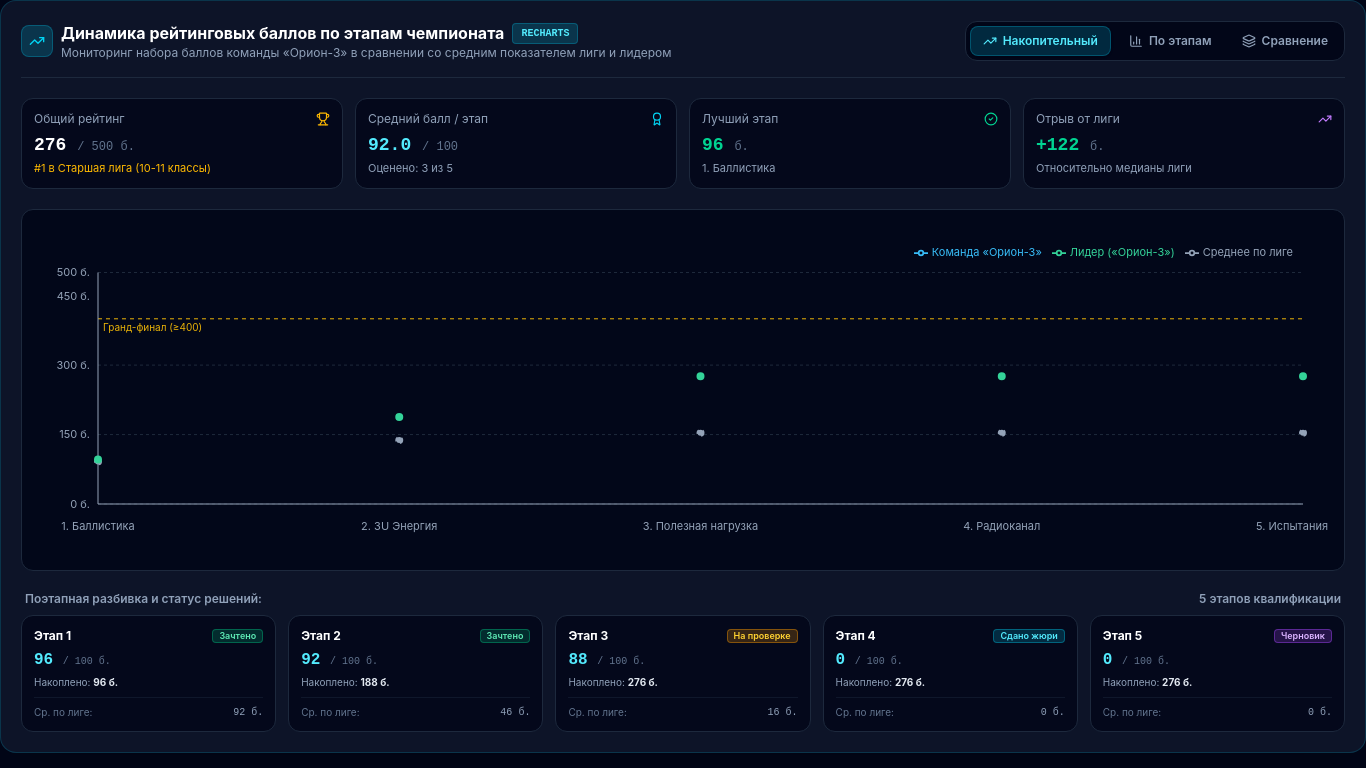
Test: StageScoresChart: График рейтинговых баллов по этапам (Recharts) › позволяет переключать режимы отображения: Накопительный, По этапам, Сравнение
Check: the button with test id "btn-view-comparison" is shown, box [1230,27,1340,55]
Check: the button with test id "btn-view-cumulative" is shown, box [970,26,1111,56]
Note: Переключение на "По этапам"
Click the button with test id "btn-view-perStage" at (1170, 41), box [1117,27,1224,55]
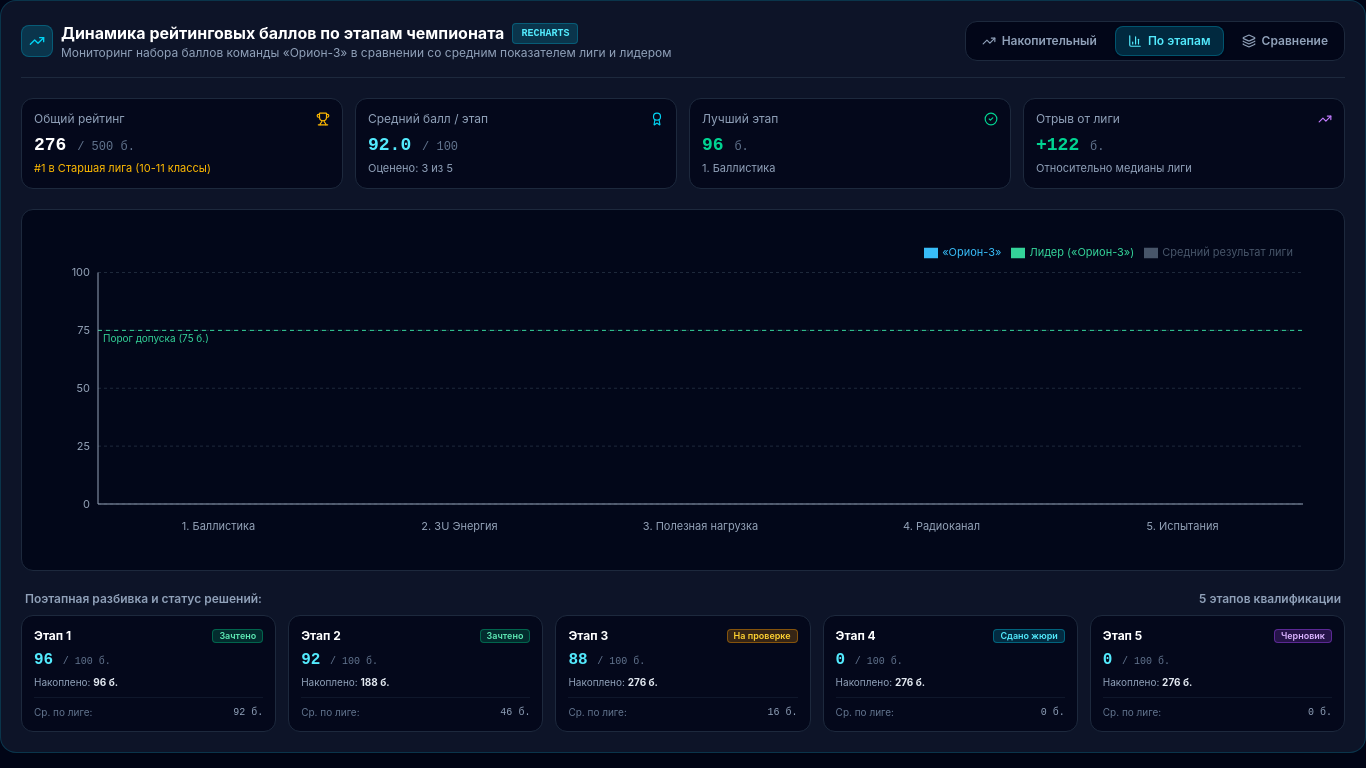
Check: the button with test id "btn-view-perStage" has class "bg-cyan-500/20", box [1115,26,1224,56]
Note: Переключение на "Сравнение"
Click the button with test id "btn-view-comparison" at (1285, 41), box [1230,27,1340,55]
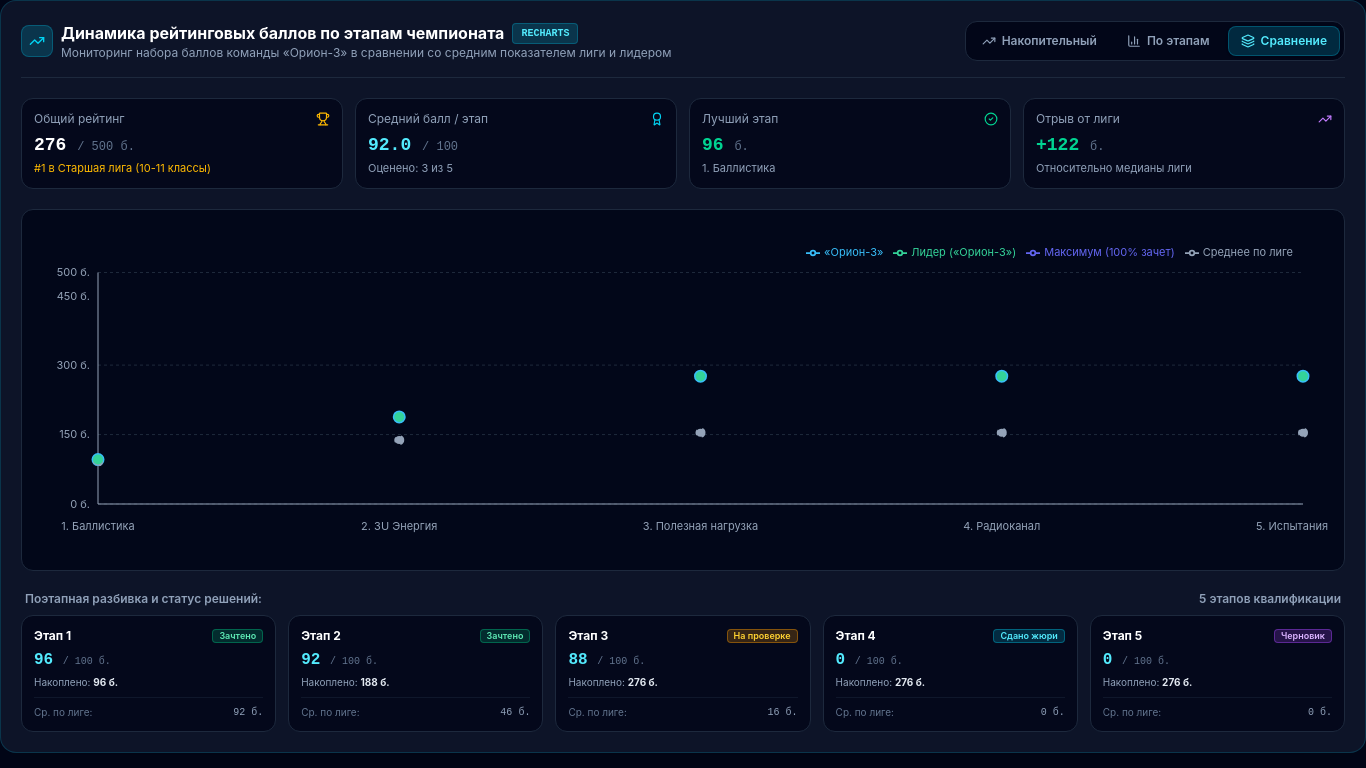
Check: the button with test id "btn-view-comparison" has class "bg-cyan-500/20", box [1228,26,1340,56]
Note: Переключение обратно на "Накопительный"
Click the button with test id "btn-view-cumulative" at (1039, 41), box [970,27,1109,55]
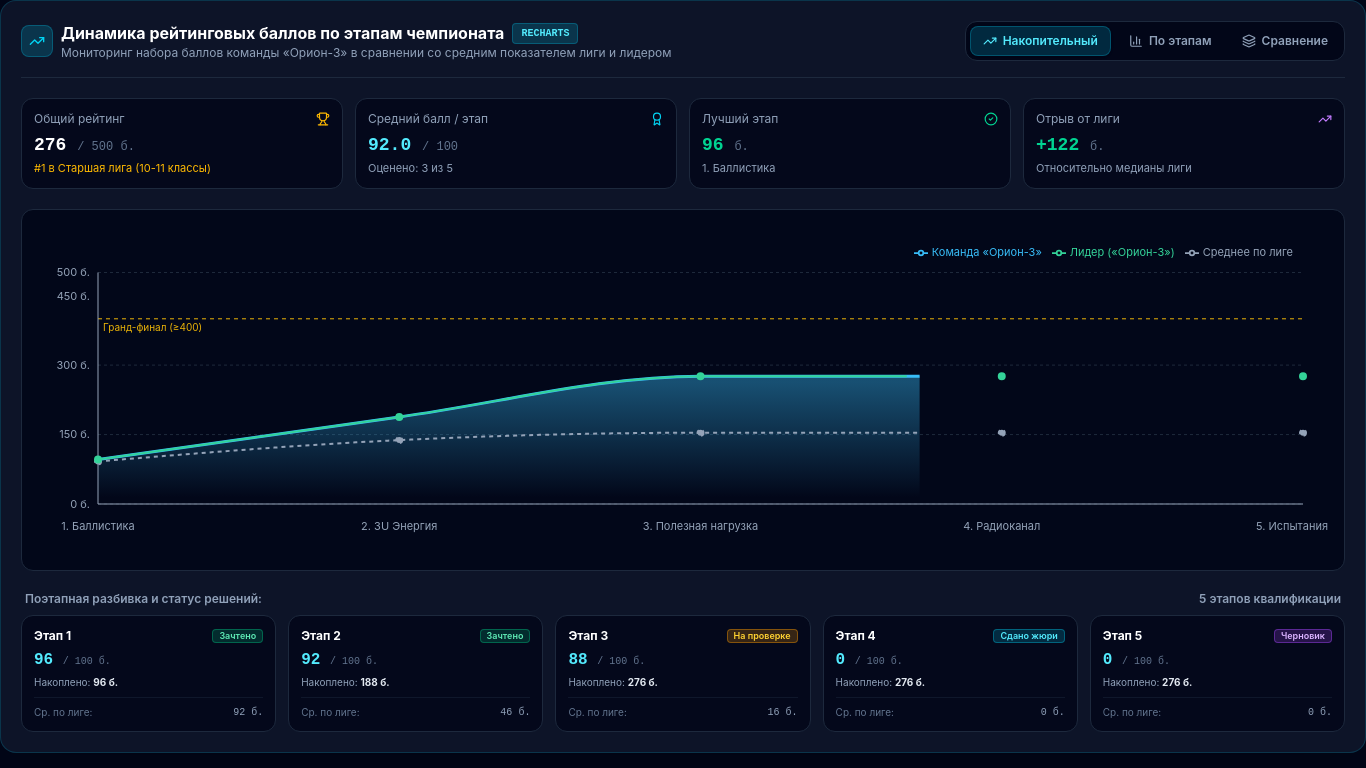
Check: the button with test id "btn-view-cumulative" has class "bg-cyan-500/20", box [970,26,1111,56]
